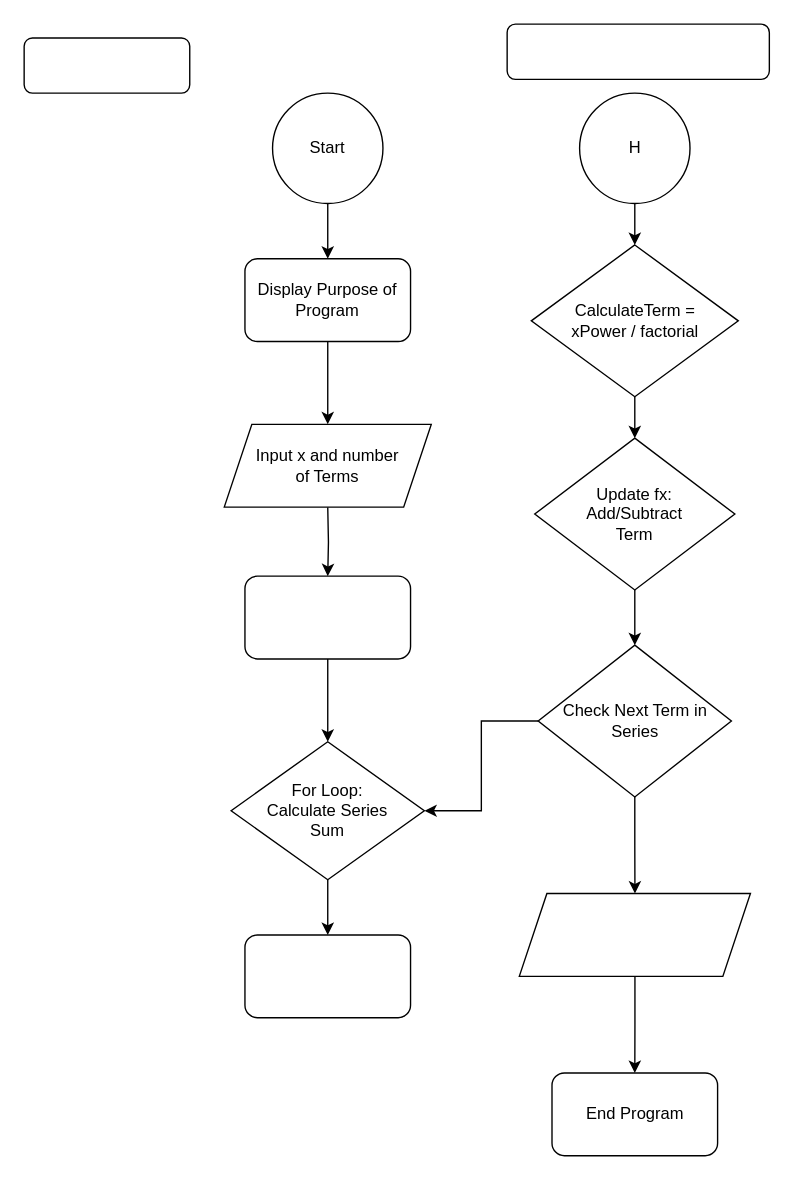
Image size: 794x1180. Some labels were removed from this diagram. The box of each missing label's shape, as (x1, y1, x2, y2) in pixels:
Initialize fx to 0: (244, 575, 411, 659)
Initialize xPower and factorial: (244, 934, 411, 1018)
Julio G. 1/26/2024: (23, 37, 190, 93)
M6 Series Calculation: (506, 23, 769, 79)
Output Calculated Series Value: (518, 892, 750, 976)
